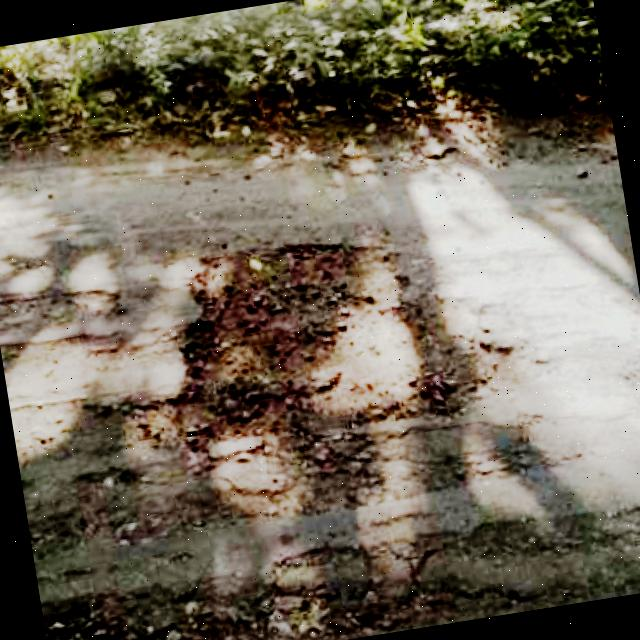pothole: (138, 194, 539, 463), (41, 541, 448, 640)
